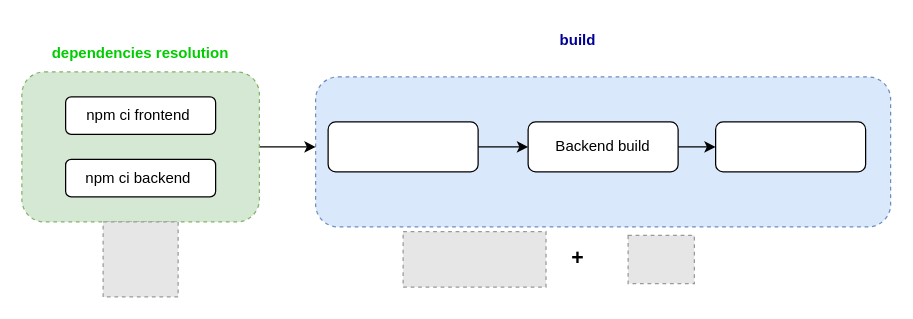
Some shapes in this 913 by 319 pixel diagram are drawn without their labels. Grey dashed boxes stand in for pictures. Here are the shapes that lost their labels. From the top down, the box of each, then its label:
(327, 121, 478, 172): Frontend build
(714, 121, 866, 172): obfuscation
